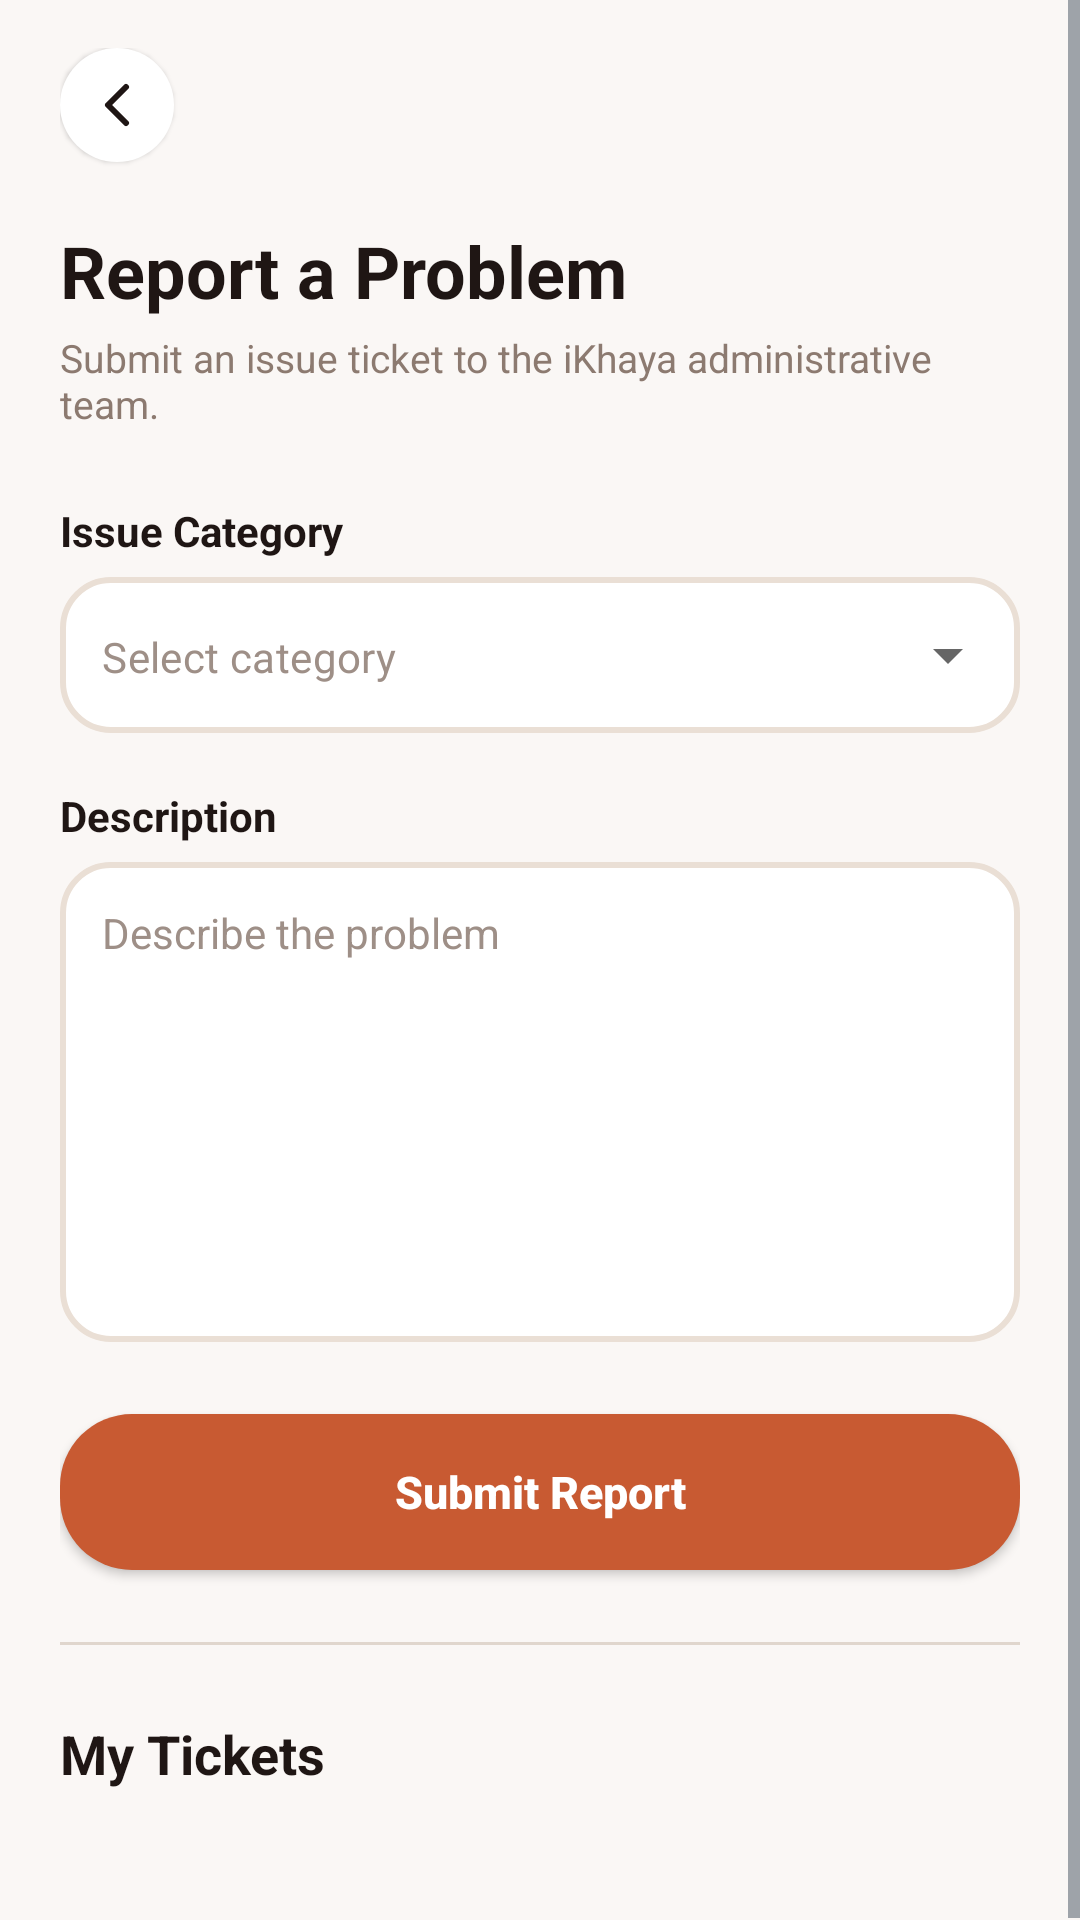

Icon click points for this 1080 x 1920 phone screenshot, format (x,y):
Navigate Back: (117,105)
